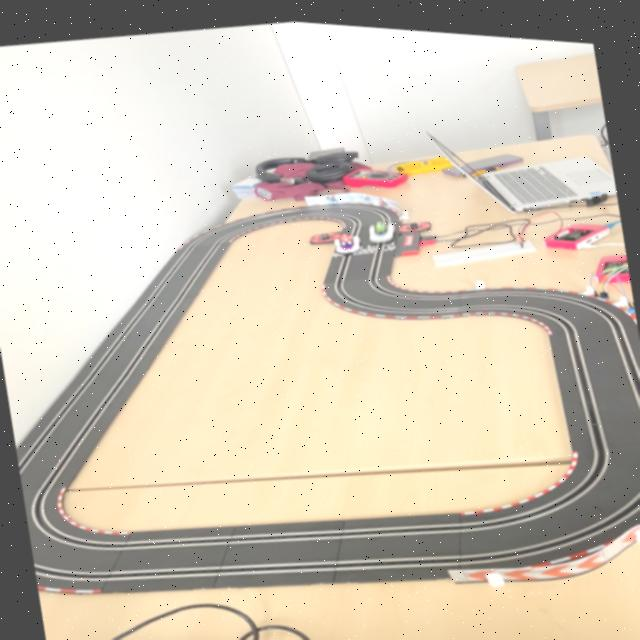mario: (332, 225, 364, 252)
yoshi: (366, 213, 398, 241)
